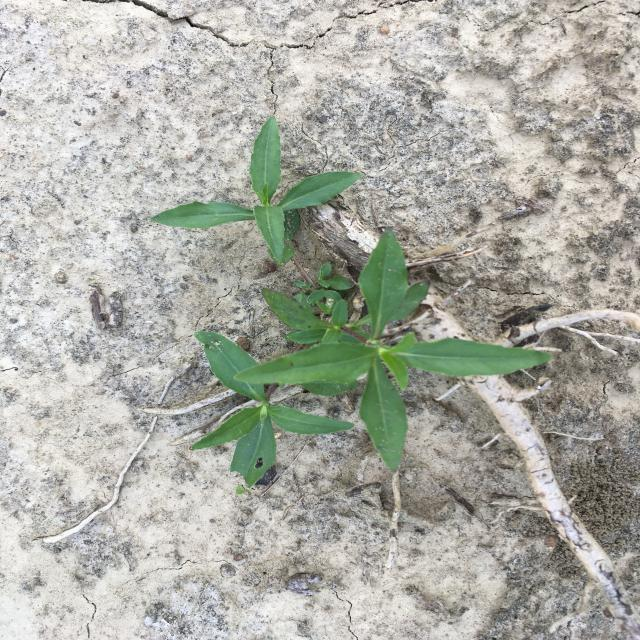Eclipta: (149, 115, 552, 491)
